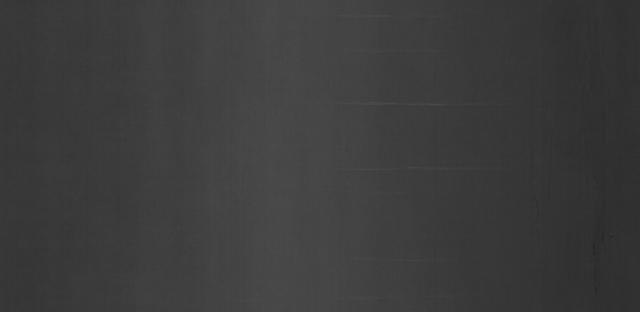waist_folding: (330, 27, 534, 280)
